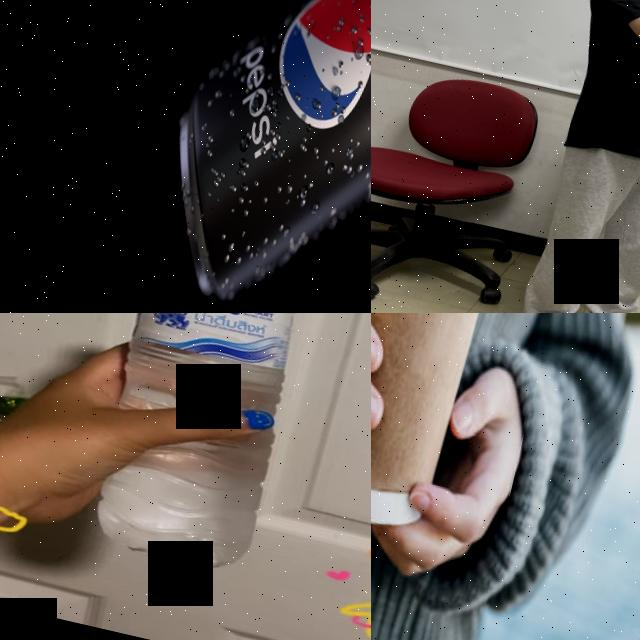bottle: (77, 313, 320, 576)
can: (135, 0, 371, 313)
cup: (371, 313, 516, 549)
